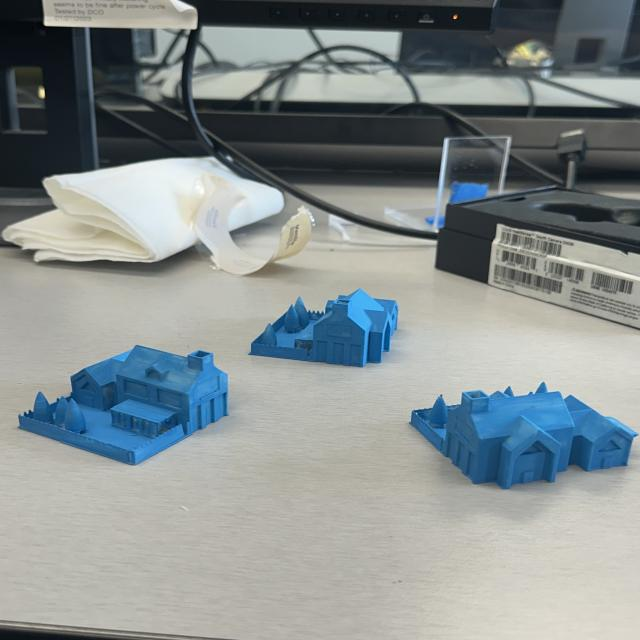house: (18, 343, 234, 467), (406, 380, 638, 490), (251, 287, 403, 367)
